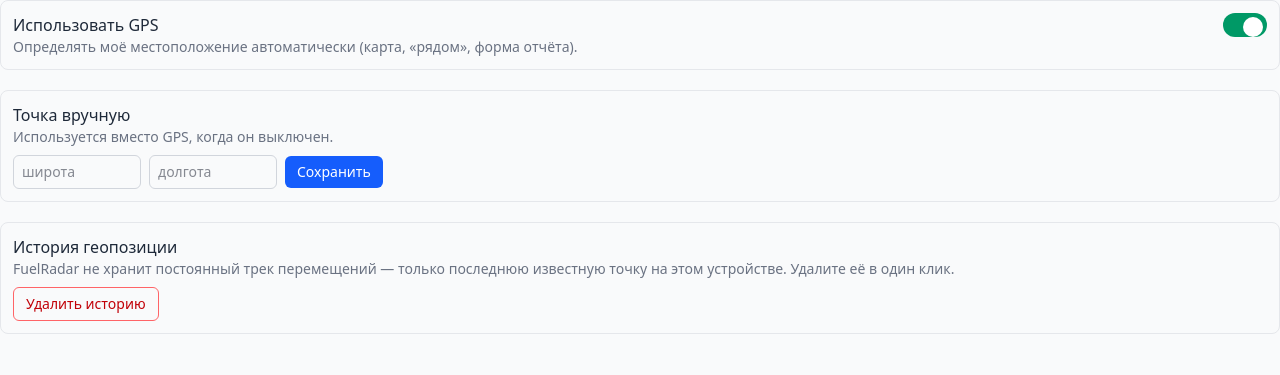
Test: PrivacySettings (R24) › валидная ручная точка сохраняется и показывается
Type "45.05" into the number field with placeholder "широта" at (77, 172), box [13, 155, 141, 189]
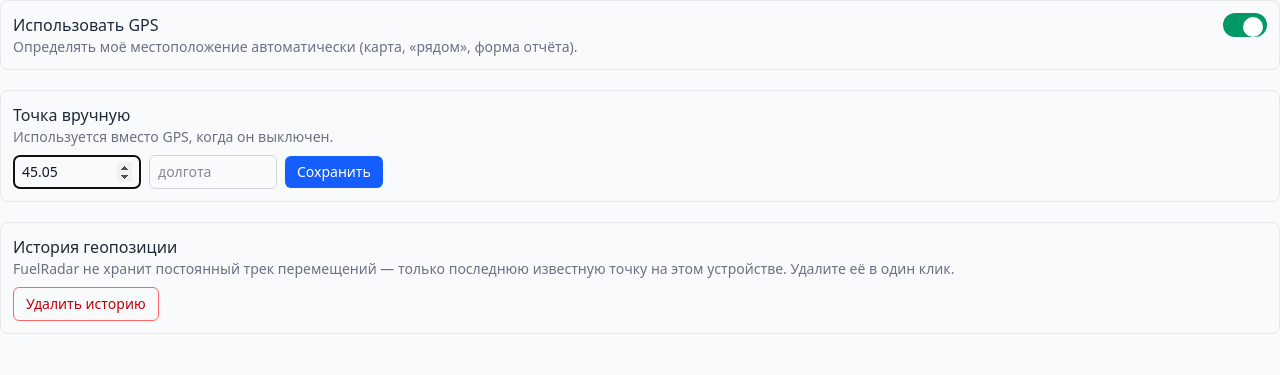
Type "38.97" into the number field with placeholder "долгота" at (213, 172), box [149, 155, 277, 189]
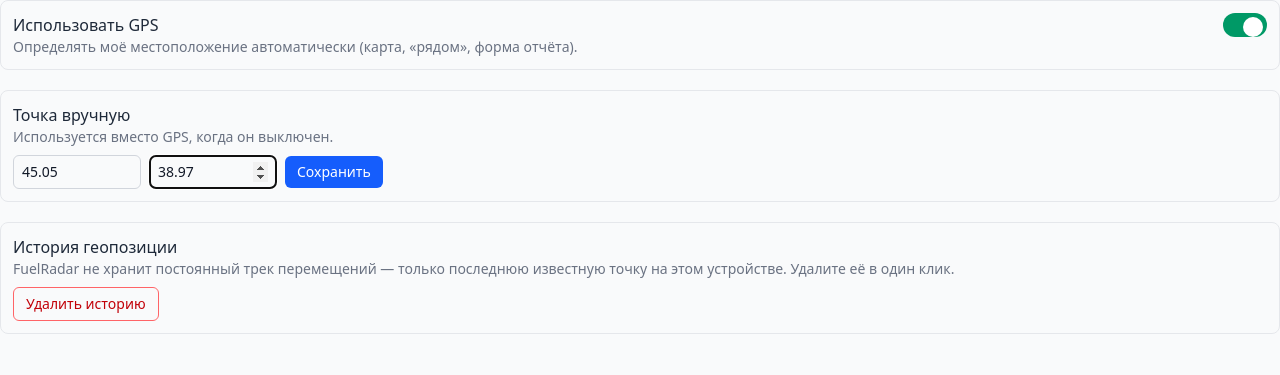
Click the button "Сохранить" at (334, 172), box [285, 156, 383, 188]
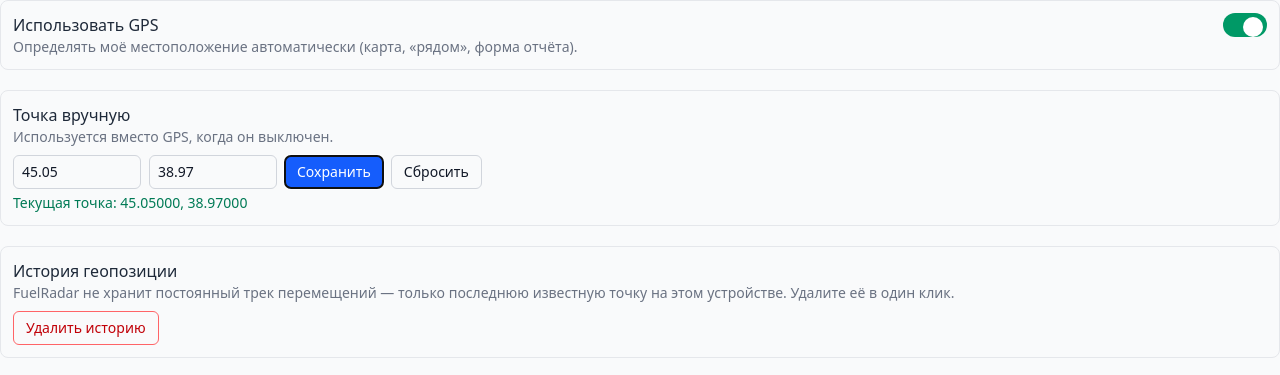
Expected: the text "Текущая точка: 45.05000, 38.97000" is shown, [13, 193, 247, 212]
